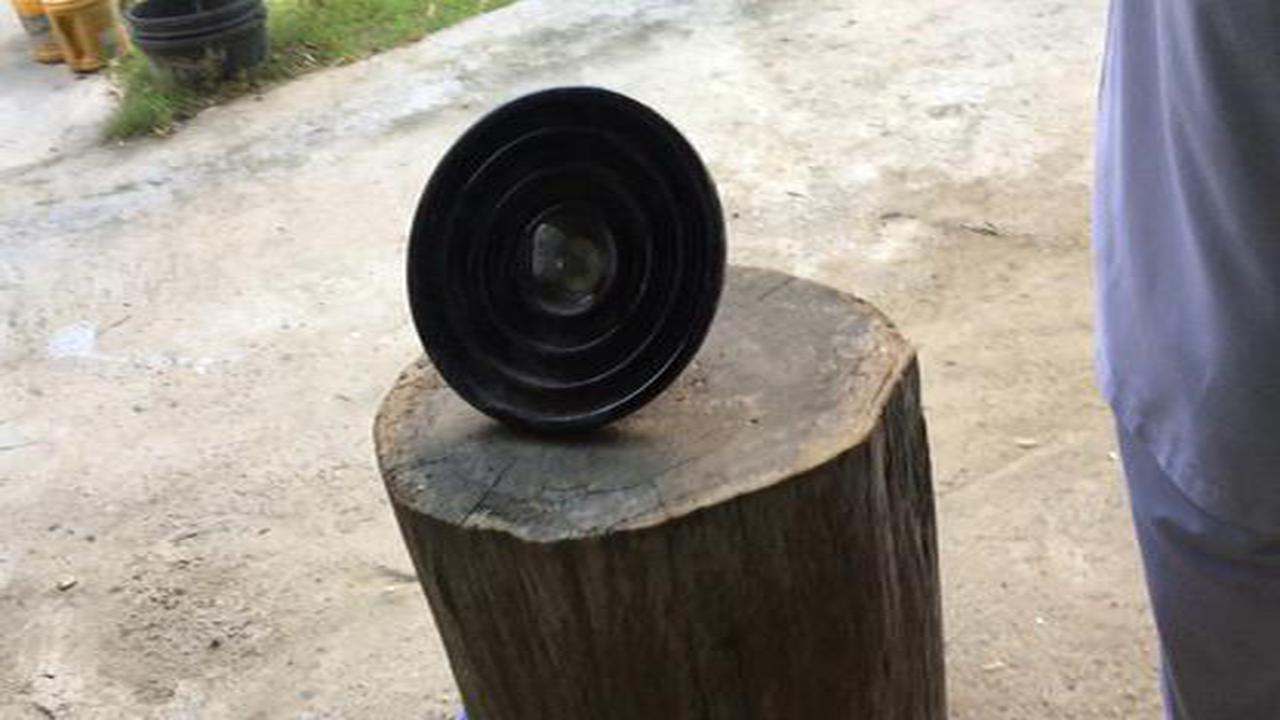insulator_disc: (405, 86, 731, 440)
